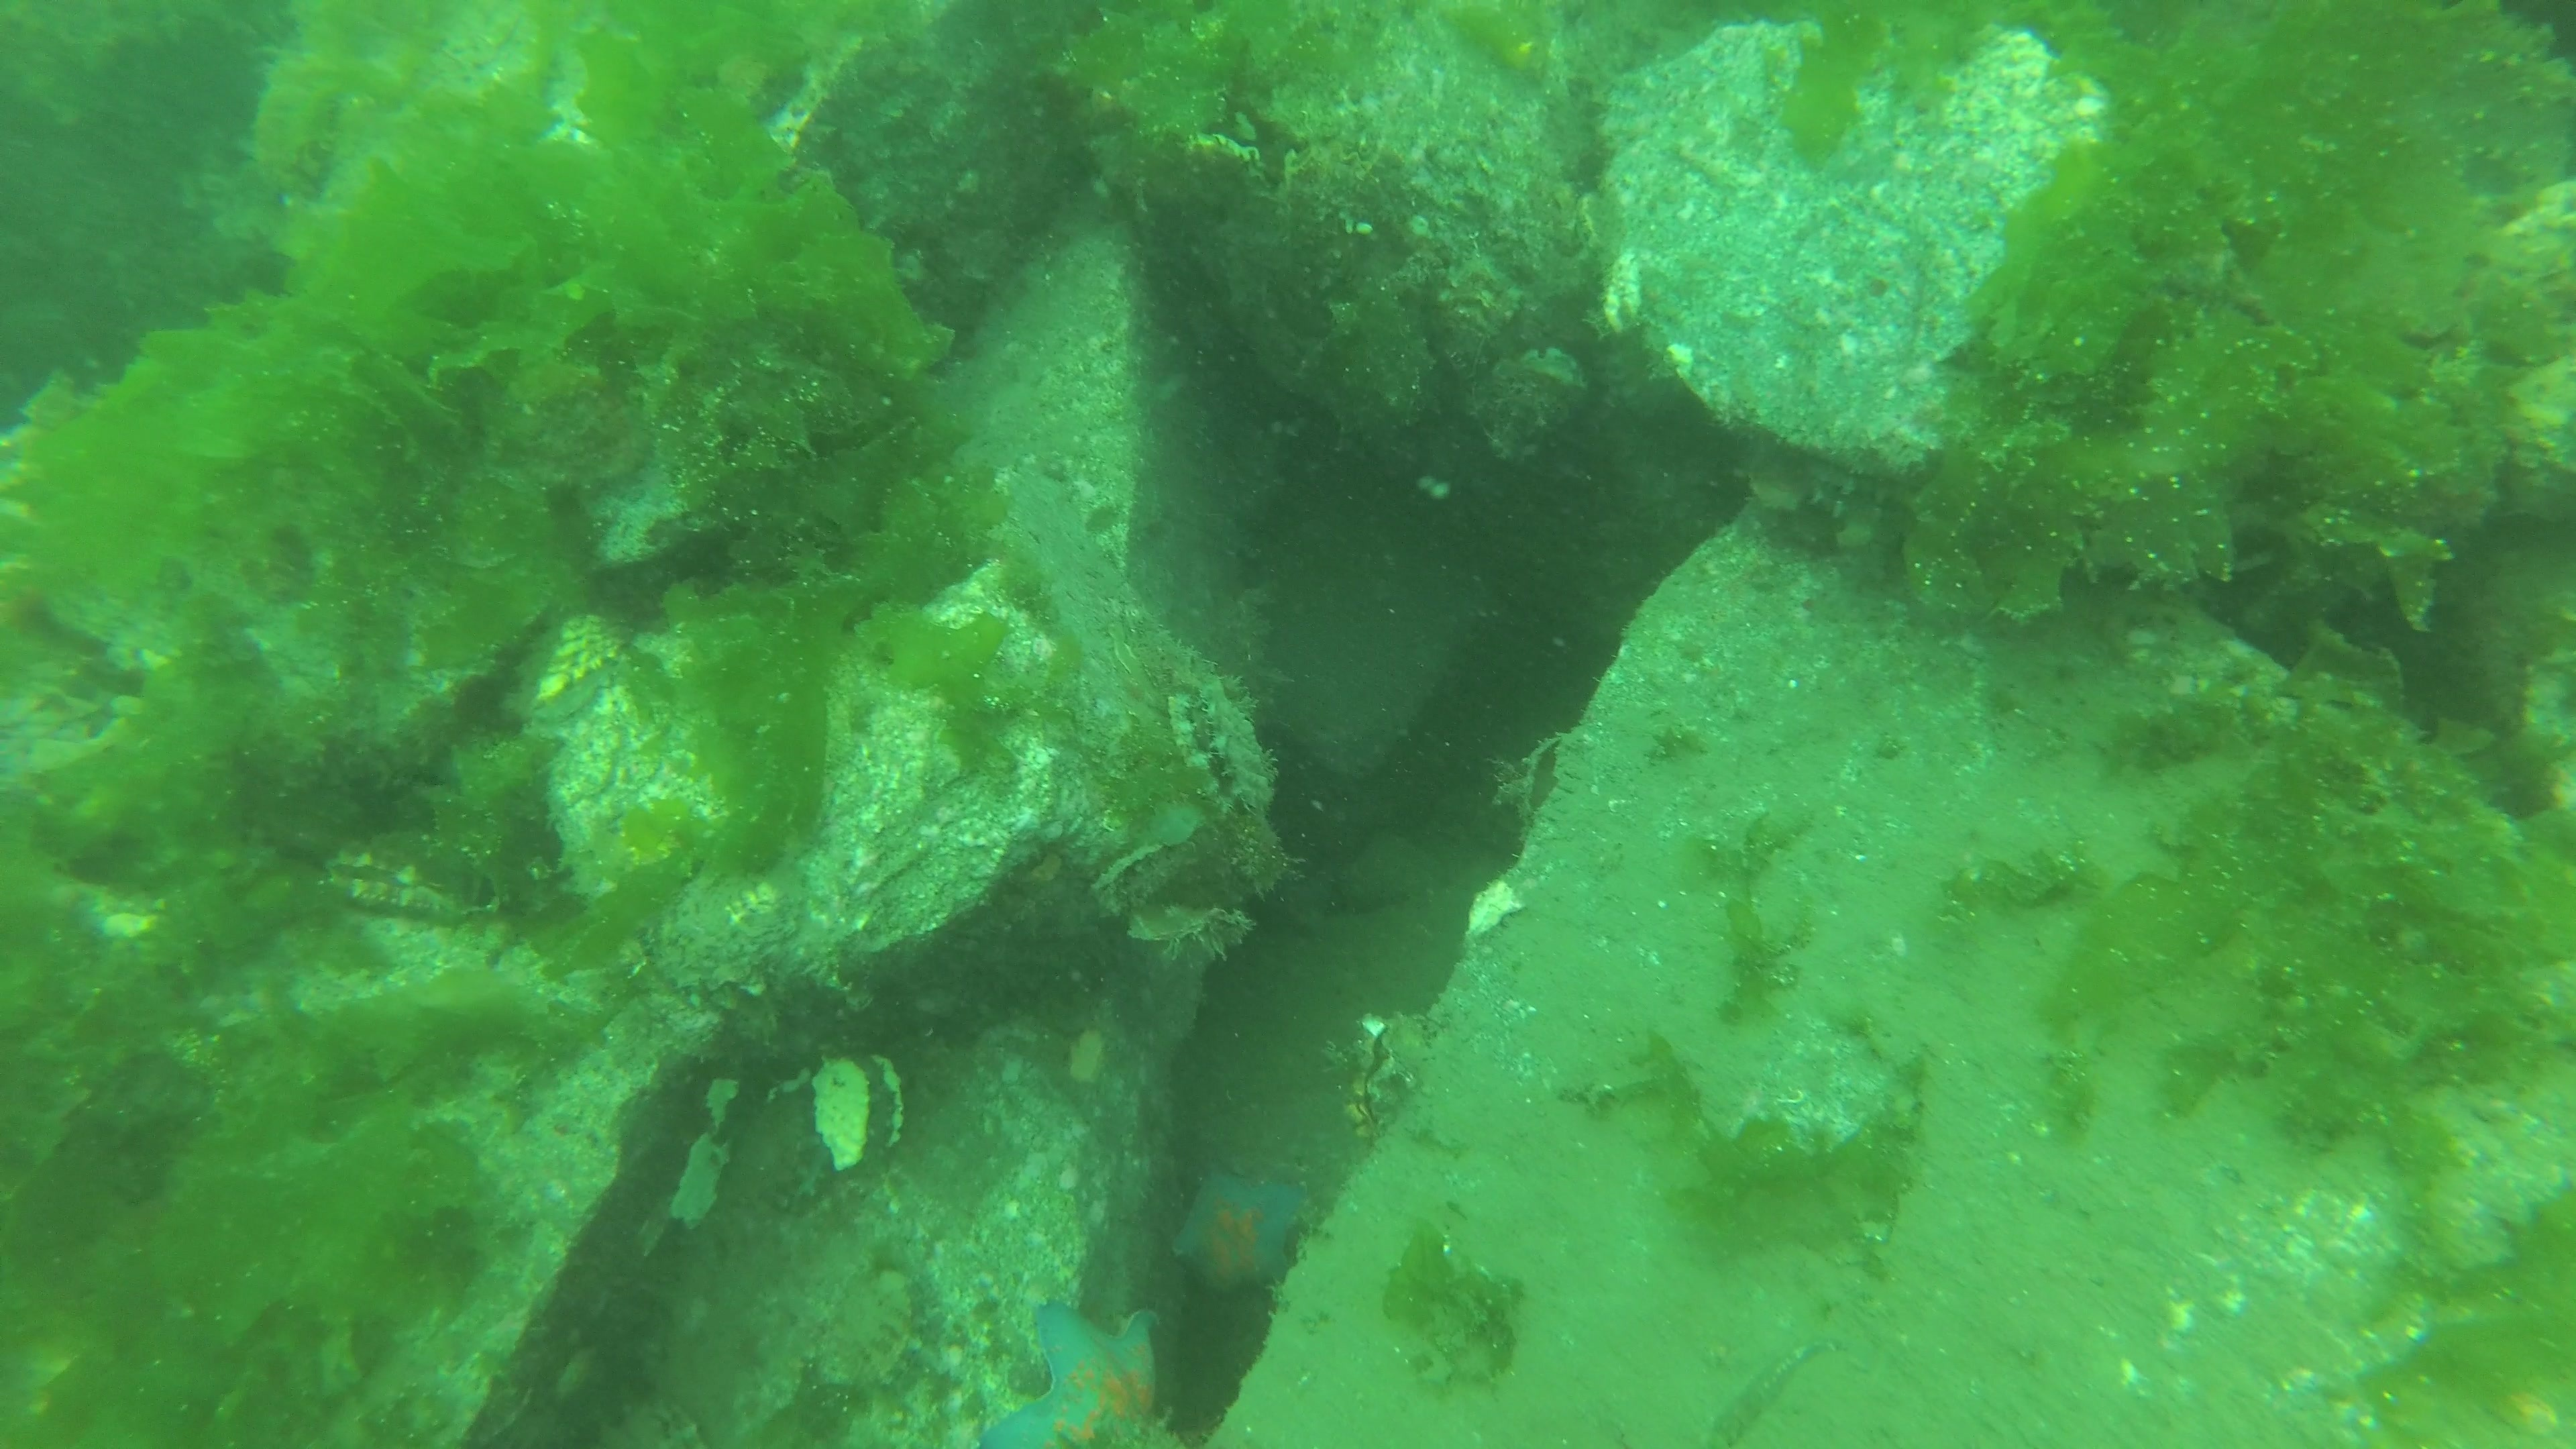starfish: (975, 1297, 1161, 1449), (1166, 1161, 1315, 1299)
